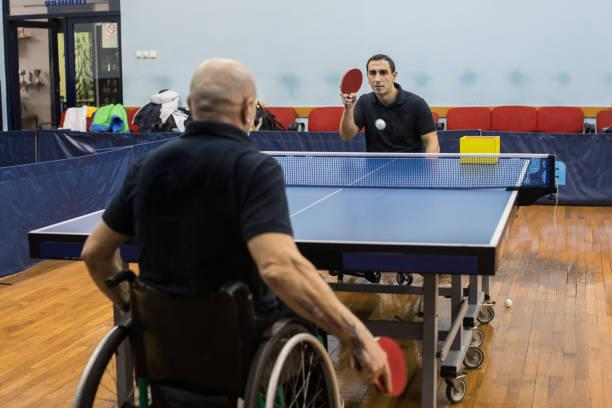ball_pingpong: (376, 120, 387, 131)
